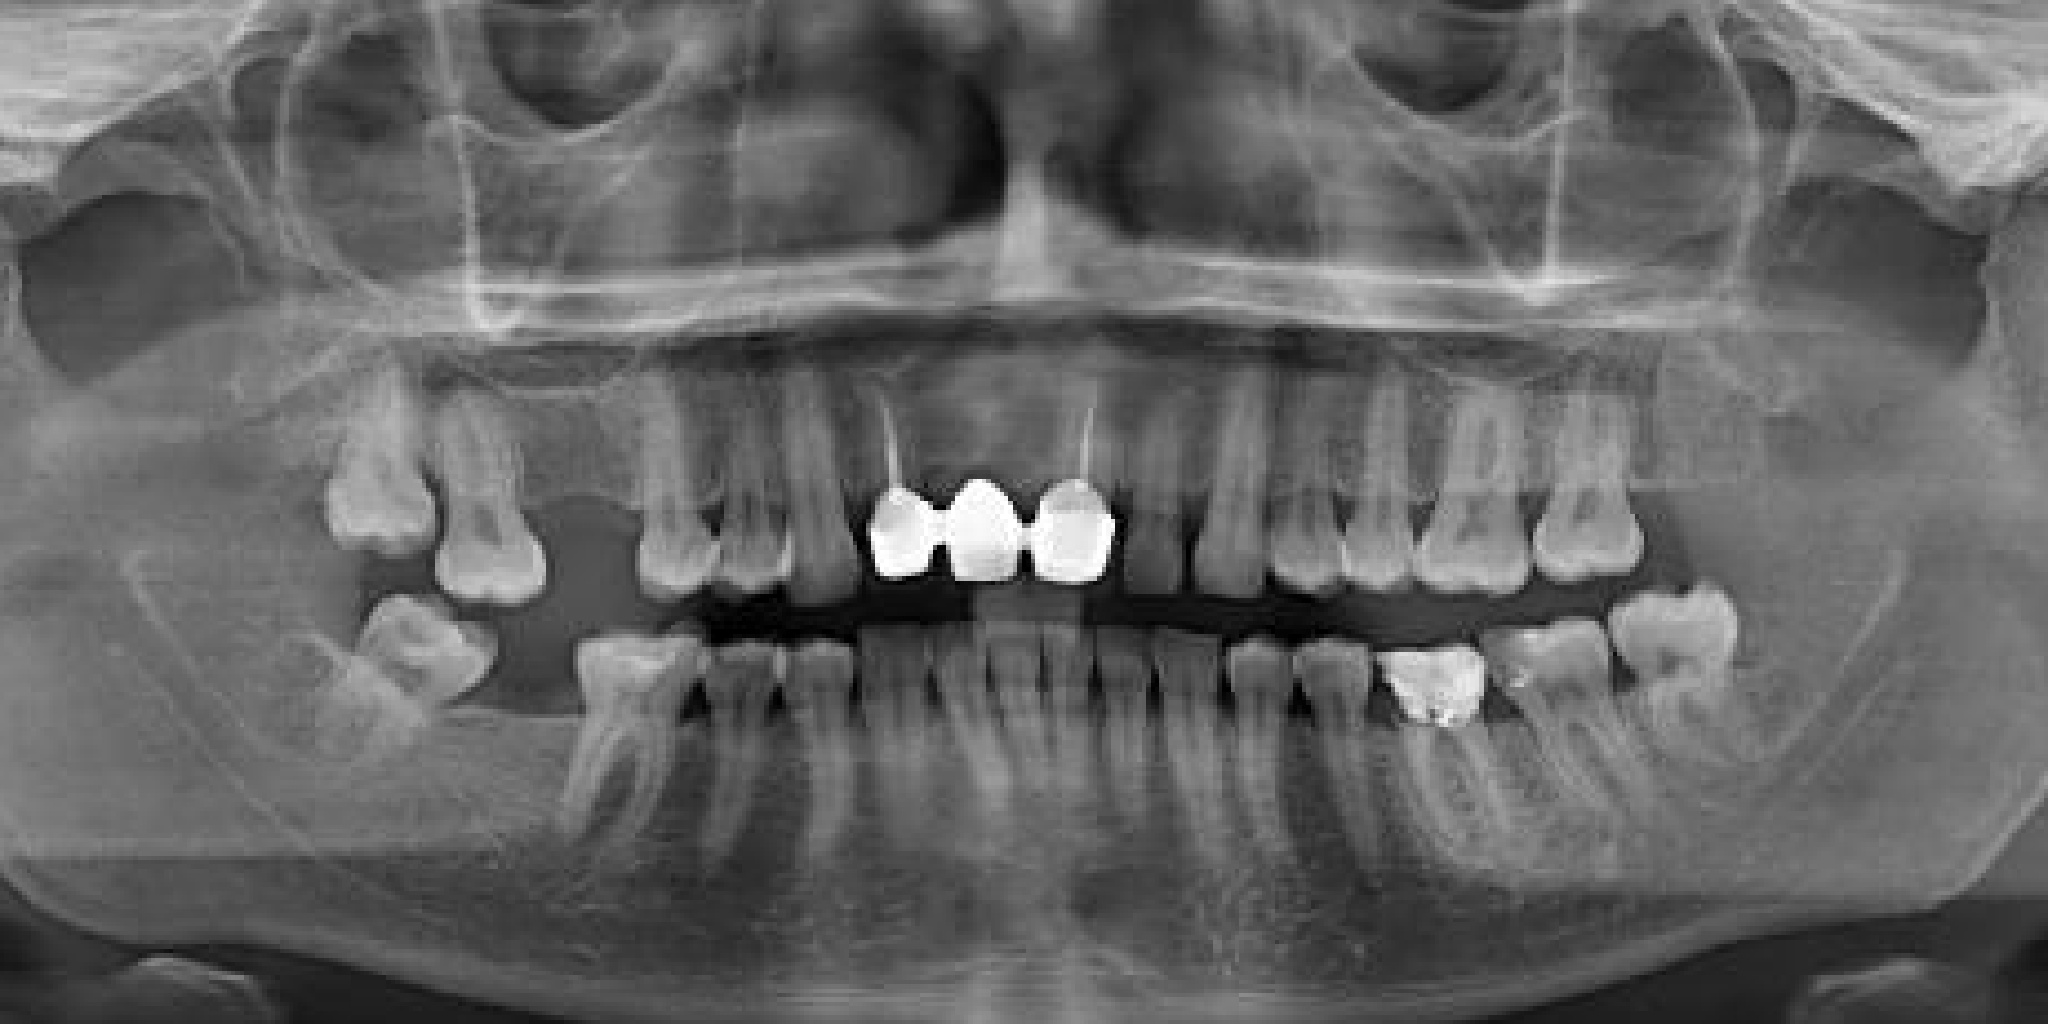Tooth: (196, 487, 573, 933), (1396, 508, 1765, 955), (1524, 475, 1880, 923), (445, 532, 785, 978), (1287, 549, 1622, 994), (559, 555, 878, 998), (835, 524, 1125, 961), (1343, 244, 1627, 679), (1132, 558, 1412, 991), (1458, 234, 1736, 667), (1209, 558, 1488, 991), (889, 516, 1168, 950), (1064, 549, 1337, 980), (765, 256, 1012, 677), (1038, 259, 1280, 678), (695, 563, 936, 982), (959, 253, 1200, 671), (1121, 257, 1361, 677), (694, 263, 934, 682), (1014, 539, 1249, 955), (782, 554, 1016, 970), (630, 276, 863, 692), (270, 226, 498, 639), (1271, 252, 1498, 665), (1199, 260, 1420, 670), (961, 539, 1176, 947)
